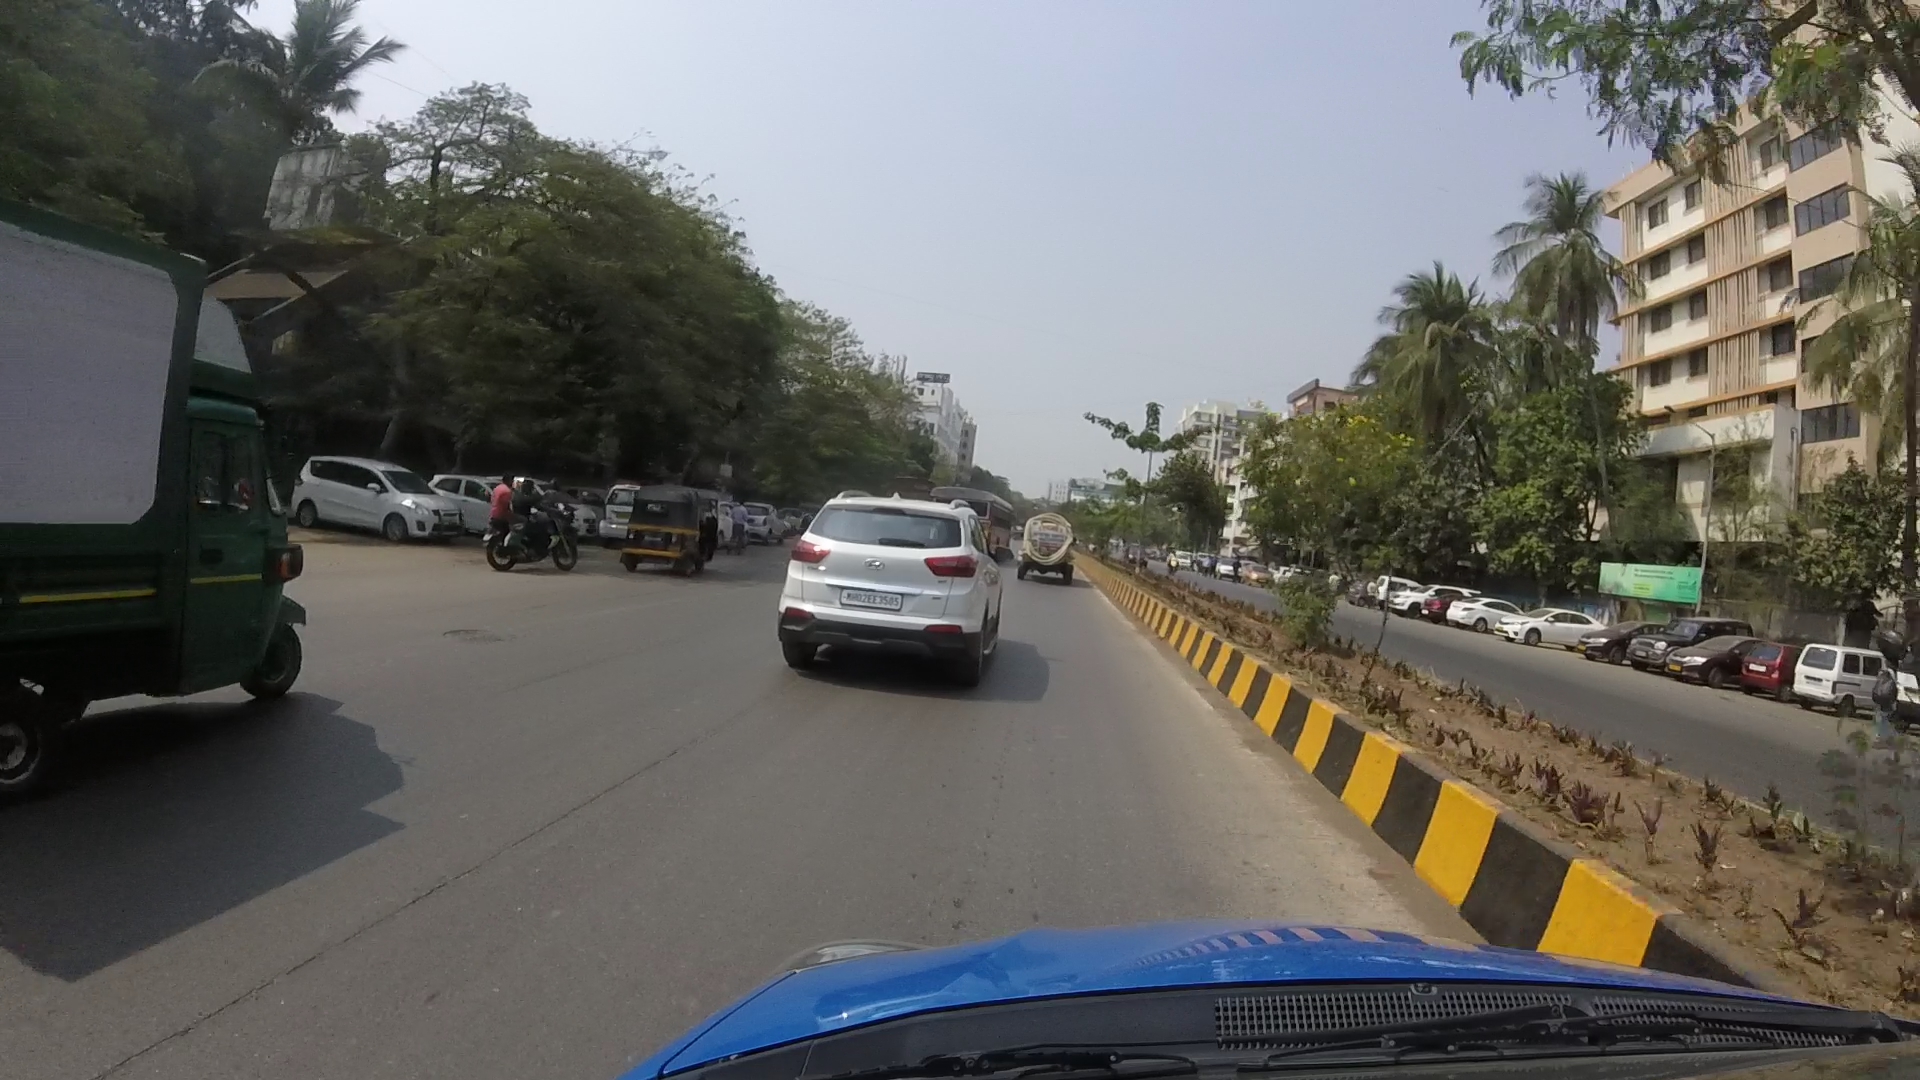bike/scooter: (484, 472, 575, 578)
car: (769, 489, 993, 686)
rickshaw: (622, 480, 728, 568)
truck: (8, 207, 311, 733)
